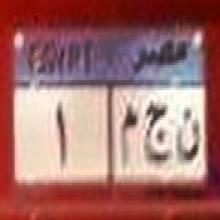1: (52, 94, 70, 168)
jeem: (143, 100, 171, 168)
meem: (118, 103, 138, 167)
noon: (174, 105, 201, 163)
